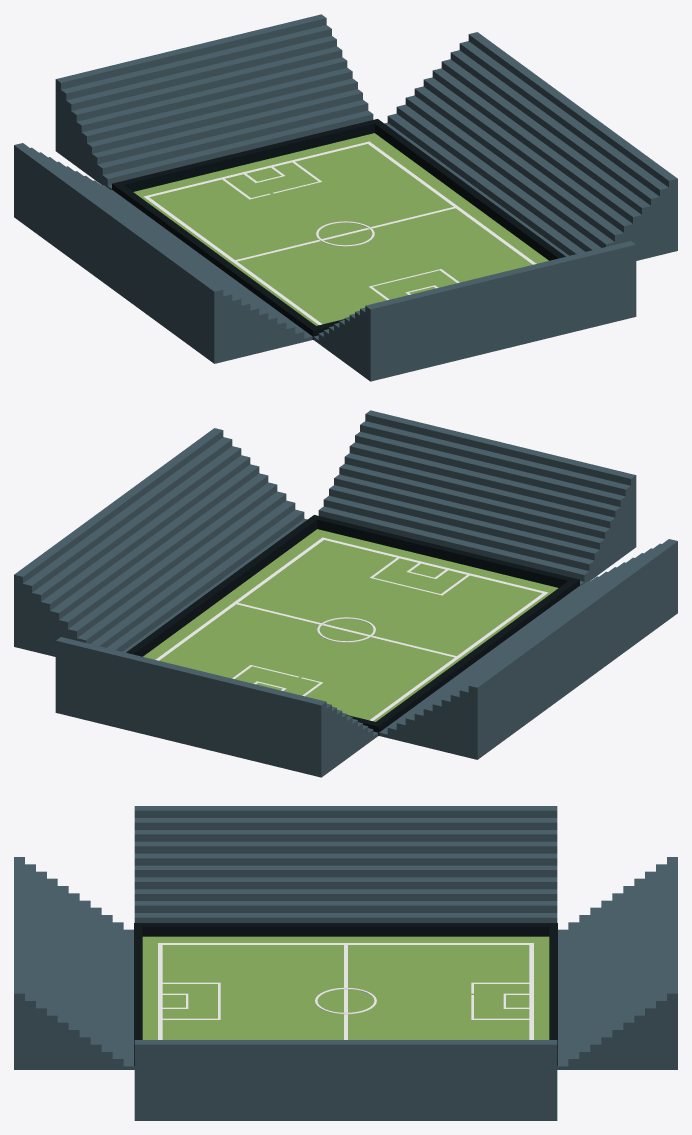
Rendered from Stadium Stands.fbx.
The picture shows the model from 3 angles, top to bottom: view 1: azimuth 30°, elevation 25°; view 2: azimuth 150°, elevation 25°; view 3: azimuth 270°, elevation 25°; orthographic projection. The views are drawn at different scales.
Parts seen in each view (by area): view 1: Cube.005; view 2: Cube.005; view 3: Cube.005.
Part boxes in pixels (x1,y1,x2,y2): Cube.005: (14, 14, 677, 381); Cube.005: (14, 410, 677, 777); Cube.005: (14, 806, 677, 1120).
Size of the model in its own units: 28232 by 4200 by 33196.
